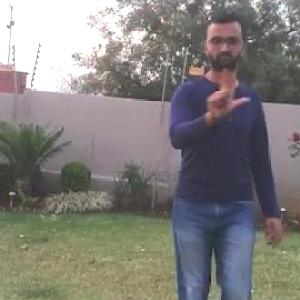land_hand: (198, 65, 251, 121)
